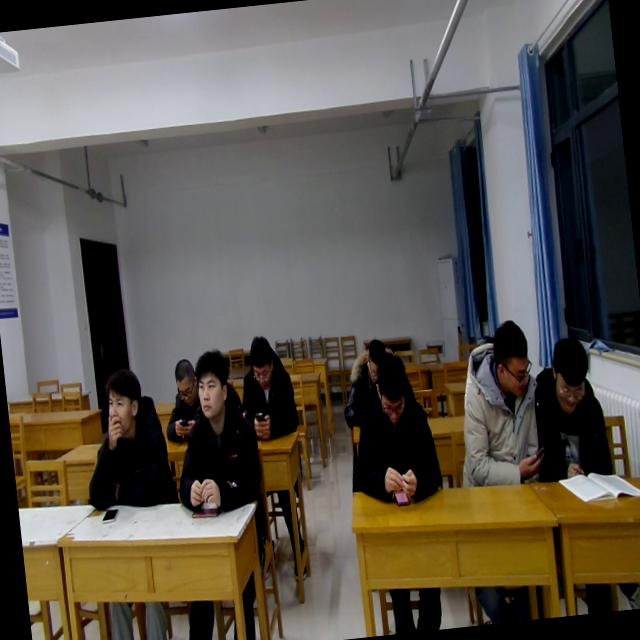bow: (232, 328, 302, 444), (334, 335, 393, 433), (156, 350, 203, 443)
down: (544, 332, 595, 418), (370, 349, 410, 428), (246, 330, 278, 393), (168, 353, 200, 408), (360, 334, 386, 384)
lookup: (190, 340, 234, 426), (100, 363, 148, 435)
sit: (163, 344, 267, 520), (446, 316, 546, 492), (342, 348, 446, 510), (74, 361, 174, 518), (528, 336, 615, 484)
